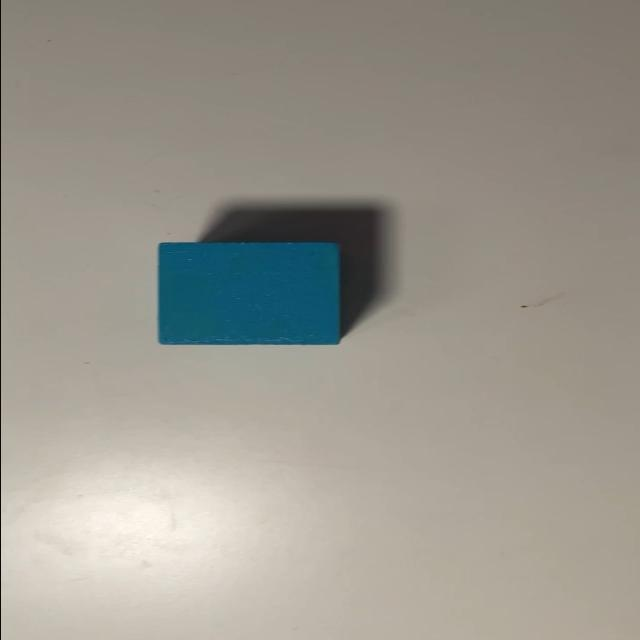blue_block: (157, 242, 337, 347)
